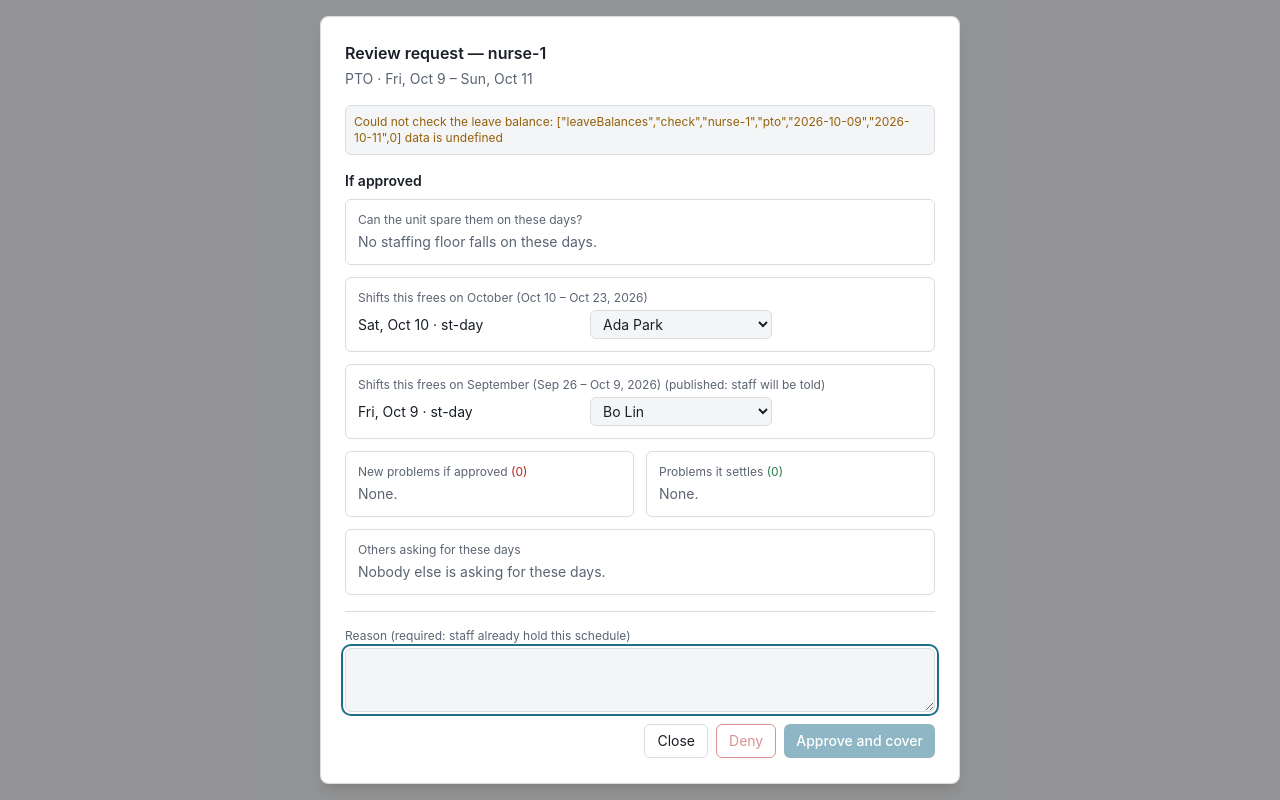
Test: approving a time-off request from the review dialog › lists the posted shifts a spanning request frees and asks for a reason
Check: the text "Shifts this frees on September (Sep 26 – Oct 9, 2026) (published: staff will be told)" is shown, box [358,377,825,392]
Check: the text "Shifts this frees on October (Oct 10 – Oct 23, 2026)" is shown, box [358,290,648,305]
Type "Family emergency" into the text box with test id "decision-reason" at (640, 680), box [345,648,935,712]
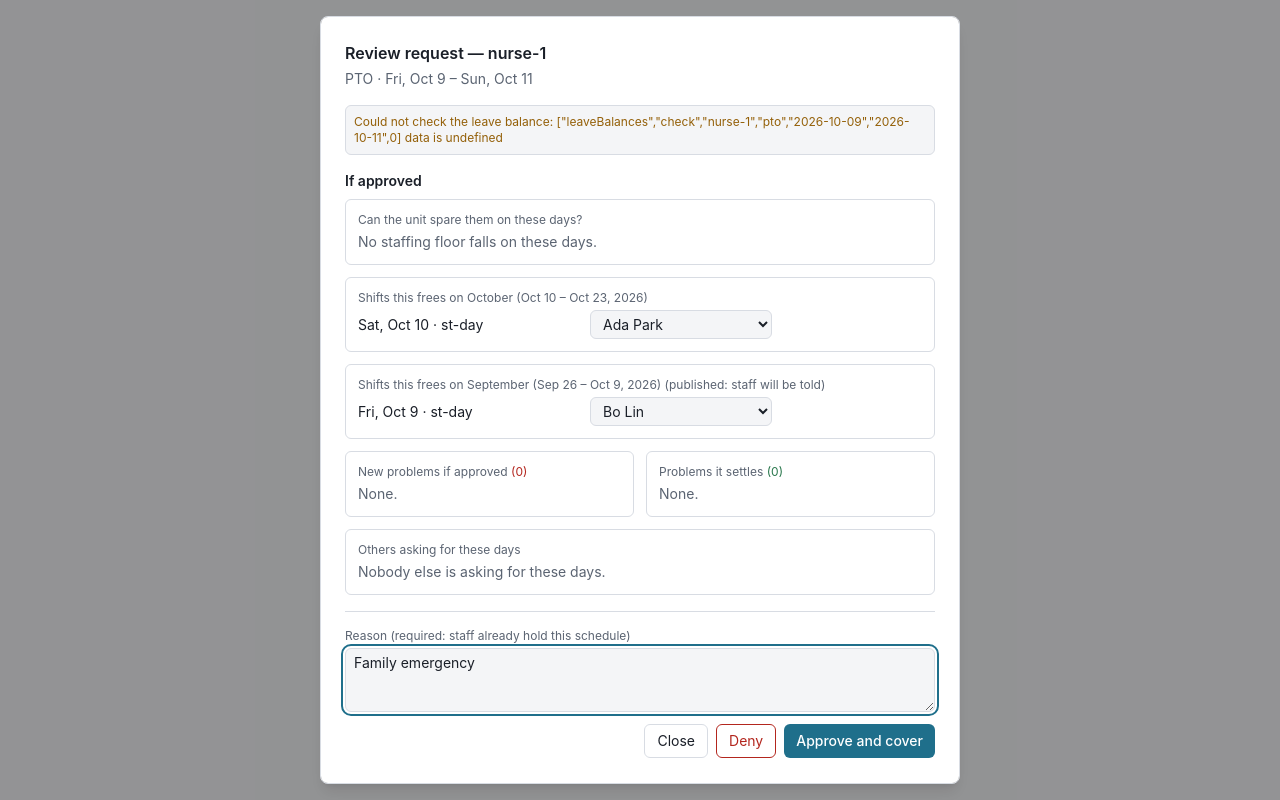
Check: the button "Approve and cover" is enabled, box [784,724,935,758]
